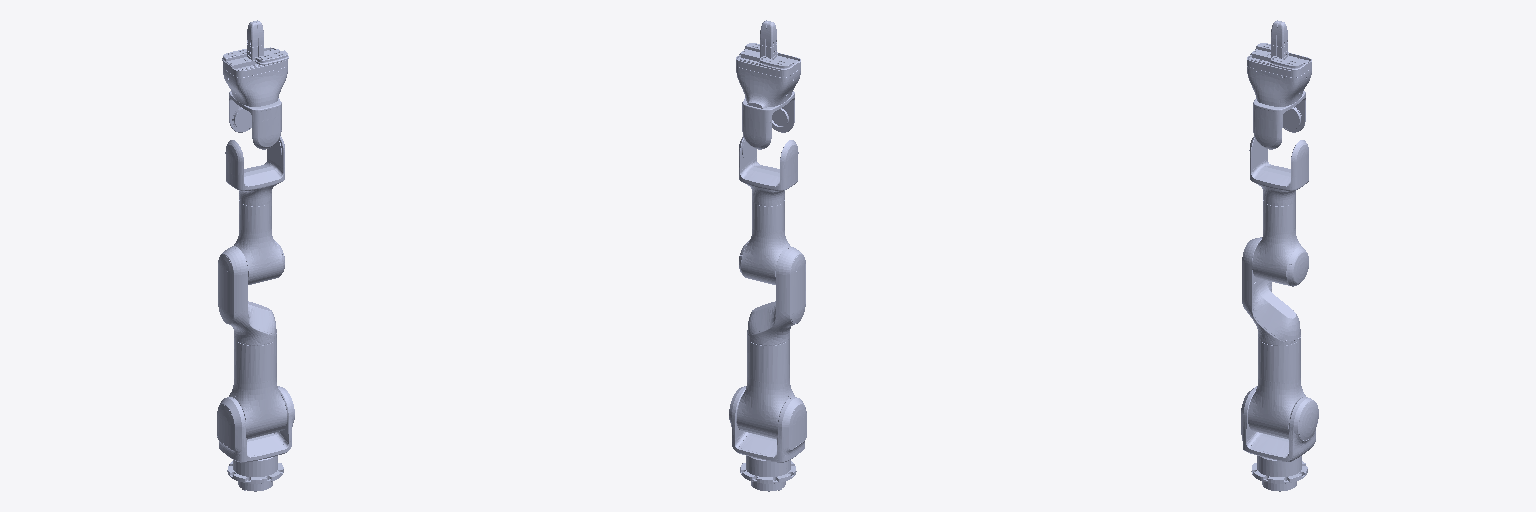
The robot description file, URDF, robot "ARM-RIGHT-GR-0":
<?xml version="1.0" encoding="utf-8"?>
<!-- This URDF was automatically created by SolidWorks to URDF Exporter! Originally created by Stephen Brawner (brawner@gmail.com) 
     Commit Version: 1.6.0-4-g7f85cfe  Build Version: 1.6.7995.38578
     For more information, please see http://wiki.ros.org/sw_urdf_exporter -->
<robot
  name="ARM-RIGHT-GR-0">
  <link
    name="right-link_arm_base">
    <inertial>
      <origin
        xyz="-2.956E-05 2.828E-07 0.021203"
        rpy="0 0 0" />
      <mass
        value="1.6812" />
      <inertia
        ixx="0.001511"
        ixy="-3.7785E-08"
        ixz="-2.2617E-06"
        iyy="0.0015126"
        iyz="-2.0148E-08"
        izz="0.0015409" />
    </inertial>
    <visual>
      <origin
        xyz="0 0 0"
        rpy="0 0 0" />
      <geometry>
        <mesh
          filename="package://ARM-RIGHT-GR-0/meshes/right-link_arm_base.STL" />
      </geometry>
      <material
        name="">
        <color
          rgba="0.79216 0.81961 0.93333 1" />
      </material>
    </visual>
    <collision>
      <origin
        xyz="0 0 0"
        rpy="0 0 0" />
      <geometry>
        <mesh
          filename="package://ARM-RIGHT-GR-0/meshes/right-link_arm_base.STL" />
      </geometry>
    </collision>
  </link>
  <link
    name="right-link_arm_1">
    <inertial>
      <origin
        xyz="-0.0011699 1.3169E-07 0.043882"
        rpy="0 0 0" />
      <mass
        value="0.53418" />
      <inertia
        ixx="0.00094394"
        ixy="5.09E-09"
        ixz="-6.9484E-05"
        iyy="0.0019256"
        iyz="4.5862E-09"
        izz="0.0016239" />
    </inertial>
    <visual>
      <origin
        xyz="0 0 0"
        rpy="0 0 0" />
      <geometry>
        <mesh
          filename="package://ARM-RIGHT-GR-0/meshes/right-link_arm_1.STL" />
      </geometry>
      <material
        name="">
        <color
          rgba="0.79216 0.81961 0.93333 1" />
      </material>
    </visual>
    <collision>
      <origin
        xyz="0 0 0"
        rpy="0 0 0" />
      <geometry>
        <mesh
          filename="package://ARM-RIGHT-GR-0/meshes/right-link_arm_1.STL" />
      </geometry>
    </collision>
  </link>
  <joint
    name="right-joint_arm_1"
    type="revolute">
    <origin
      xyz="0 0 0.048"
      rpy="0 0 0" />
    <parent
      link="right-link_arm_base" />
    <child
      link="right-link_arm_1" />
    <axis
      xyz="0 0 -1" />
    <limit
      lower="-3.14"
      upper="3.14"
      effort="100"
      velocity="1" />
  </joint>
  <link
    name="right-link_arm_2">
    <inertial>
      <origin
        xyz="2.761E-07 -0.055318 0.00024968"
        rpy="0 0 0" />
      <mass
        value="1.2991" />
      <inertia
        ixx="0.0052388"
        ixy="-4.4739E-09"
        ixz="2.5077E-10"
        iyy="0.001368"
        iyz="-1.1355E-08"
        izz="0.0051498" />
    </inertial>
    <visual>
      <origin
        xyz="0 0 0"
        rpy="0 0 0" />
      <geometry>
        <mesh
          filename="package://ARM-RIGHT-GR-0/meshes/right-link_arm_2.STL" />
      </geometry>
      <material
        name="">
        <color
          rgba="0.79216 0.81961 0.93333 1" />
      </material>
    </visual>
    <collision>
      <origin
        xyz="0 0 0"
        rpy="0 0 0" />
      <geometry>
        <mesh
          filename="package://ARM-RIGHT-GR-0/meshes/right-link_arm_2.STL" />
      </geometry>
    </collision>
  </link>
  <joint
    name="right-joint_arm_2"
    type="revolute">
    <origin
      xyz="0 0 0.076999"
      rpy="-1.5708 0 1.5708" />
    <parent
      link="right-link_arm_1" />
    <child
      link="right-link_arm_2" />
    <axis
      xyz="0 0 -1" />
    <limit
      lower="-1.91"
      upper="1.91"
      effort="100"
      velocity="1" />
  </joint>
  <link
    name="right-link_arm_3">
    <inertial>
      <origin
        xyz="-0.028391 1.8481E-06 0.07263"
        rpy="0 0 0" />
      <mass
        value="0.65629" />
      <inertia
        ixx="0.0021459"
        ixy="9.3126E-09"
        ixz="0.00070546"
        iyy="0.0024303"
        iyz="-1.6816E-09"
        izz="0.000793" />
    </inertial>
    <visual>
      <origin
        xyz="0 0 0"
        rpy="0 0 0" />
      <geometry>
        <mesh
          filename="package://ARM-RIGHT-GR-0/meshes/right-link_arm_3.STL" />
      </geometry>
      <material
        name="">
        <color
          rgba="0.79216 0.81961 0.93333 1" />
      </material>
    </visual>
    <collision>
      <origin
        xyz="0 0 0"
        rpy="0 0 0" />
      <geometry>
        <mesh
          filename="package://ARM-RIGHT-GR-0/meshes/right-link_arm_3.STL" />
      </geometry>
    </collision>
  </link>
  <joint
    name="right-joint_arm_3"
    type="revolute">
    <origin
      xyz="0 -0.166 0.00025042"
      rpy="0.44871 1.5708 -1.1221" />
    <parent
      link="right-link_arm_2" />
    <child
      link="right-link_arm_3" />
    <axis
      xyz="0 0 -1" />
    <limit
      lower="-3.14"
      upper="3.14"
      effort="100"
      velocity="1" />
  </joint>
  <link
    name="right-link_arm_4">
    <inertial>
      <origin
        xyz="6.7357E-08 -0.035384 -0.0029086"
        rpy="0 0 0" />
      <mass
        value="0.77877" />
      <inertia
        ixx="0.0021294"
        ixy="2.3749E-08"
        ixz="-1.1228E-08"
        iyy="0.00065445"
        iyz="7.9354E-05"
        izz="0.0020291" />
    </inertial>
    <visual>
      <origin
        xyz="0 0 0"
        rpy="0 0 0" />
      <geometry>
        <mesh
          filename="package://ARM-RIGHT-GR-0/meshes/right-link_arm_4.STL" />
      </geometry>
      <material
        name="">
        <color
          rgba="0.79216 0.81961 0.93333 1" />
      </material>
    </visual>
    <collision>
      <origin
        xyz="0 0 0"
        rpy="0 0 0" />
      <geometry>
        <mesh
          filename="package://ARM-RIGHT-GR-0/meshes/right-link_arm_4.STL" />
      </geometry>
    </collision>
  </link>
  <joint
    name="right-joint_arm_4"
    type="revolute">
    <origin
      xyz="0 0 0.1615"
      rpy="-1.5709 0 1.5708" />
    <parent
      link="right-link_arm_3" />
    <child
      link="right-link_arm_4" />
    <axis
      xyz="0 0 -1" />
    <limit
      lower="-2.61"
      upper="2.61"
      effort="100"
      velocity="1" />
  </joint>
  <link
    name="right-link_arm_5">
    <inertial>
      <origin
        xyz="0.0003459 2.975E-06 0.048731"
        rpy="0 0 0" />
      <mass
        value="0.37078" />
      <inertia
        ixx="0.00046921"
        ixy="8.0617E-09"
        ixz="-7.0508E-06"
        iyy="0.00074252"
        iyz="-9.2131E-09"
        izz="0.00050205" />
    </inertial>
    <visual>
      <origin
        xyz="0 0 0"
        rpy="0 0 0" />
      <geometry>
        <mesh
          filename="package://ARM-RIGHT-GR-0/meshes/right-link_arm_5.STL" />
      </geometry>
      <material
        name="">
        <color
          rgba="0.79216 0.81961 0.93333 1" />
      </material>
    </visual>
    <collision>
      <origin
        xyz="0 0 0"
        rpy="0 0 0" />
      <geometry>
        <mesh
          filename="package://ARM-RIGHT-GR-0/meshes/right-link_arm_5.STL" />
      </geometry>
    </collision>
  </link>
  <joint
    name="right-joint_arm_5"
    type="revolute">
    <origin
      xyz="0 -0.135 1.0218E-05"
      rpy="-1.5708 1.5708 -3.1416" />
    <parent
      link="right-link_arm_4" />
    <child
      link="right-link_arm_5" />
    <axis
      xyz="0 0 -1" />
    <limit
      lower="-3.14"
      upper="3.14"
      effort="100"
      velocity="1" />
  </joint>
  <link
    name="right-link_arm_6">
    <inertial>
      <origin
        xyz="-1.6259E-06 -0.028 1.0438E-05"
        rpy="0 0 0" />
      <mass
        value="0.59195" />
      <inertia
        ixx="0.00088918"
        ixy="-2.8999E-08"
        ixz="7.3671E-10"
        iyy="0.00053422"
        iyz="-1.5169E-08"
        izz="0.00088918" />
    </inertial>
    <visual>
      <origin
        xyz="0 0 0"
        rpy="0 0 0" />
      <geometry>
        <mesh
          filename="package://ARM-RIGHT-GR-0/meshes/right-link_arm_6.STL" />
      </geometry>
      <material
        name="">
        <color
          rgba="0.79216 0.81961 0.93333 1" />
      </material>
    </visual>
    <collision>
      <origin
        xyz="0 0 0"
        rpy="0 0 0" />
      <geometry>
        <mesh
          filename="package://ARM-RIGHT-GR-0/meshes/right-link_arm_6.STL" />
      </geometry>
    </collision>
  </link>
  <joint
    name="right-joint_arm_6"
    type="revolute">
    <origin
      xyz="0 0 0.105"
      rpy="-1.5708 0 1.5708" />
    <parent
      link="right-link_arm_5" />
    <child
      link="right-link_arm_6" />
    <axis
      xyz="0 0 -1" />
    <limit
      lower="-1.51"
      upper="1.51"
      effort="100"
      velocity="1" />
  </joint>
  <link
    name="right-link_arm_7">
    <inertial>
      <origin
        xyz="-2.3746E-05 -0.026806 -0.003448"
        rpy="0 0 0" />
      <mass
        value="0.16706" />
      <inertia
        ixx="0.00043484"
        ixy="-6.2144E-08"
        ixz="1.1597E-08"
        iyy="0.00037043"
        iyz="1.4512E-05"
        izz="0.00016897" />
    </inertial>
    <visual>
      <origin
        xyz="0 0 0"
        rpy="0 0 0" />
      <geometry>
        <mesh
          filename="package://ARM-RIGHT-GR-0/meshes/right-link_arm_7.STL" />
      </geometry>
      <material
        name="">
        <color
          rgba="0.79216 0.81961 0.93333 1" />
      </material>
    </visual>
    <collision>
      <origin
        xyz="0 0 0"
        rpy="0 0 0" />
      <geometry>
        <mesh
          filename="package://ARM-RIGHT-GR-0/meshes/right-link_arm_7.STL" />
      </geometry>
    </collision>
  </link>
  <joint
    name="right-joint_arm_7"
    type="revolute">
    <origin
      xyz="0 -0.056001 0"
      rpy="-1.5708 -1.57 1.5708" />
    <parent
      link="right-link_arm_6" />
    <child
      link="right-link_arm_7" />
    <axis
      xyz="0 0 -1" />
    <limit
      lower="-1.51"
      upper="1.51"
      effort="100"
      velocity="1" />
  </joint>
  <link
    name="right-link_gripper_base">
    <inertial>
      <origin
        xyz="2.0078E-06 0.00034834 0.045721"
        rpy="0 0 0" />
      <mass
        value="0.57392" />
      <inertia
        ixx="0.00053521"
        ixy="1.0881E-07"
        ixz="-7.8901E-08"
        iyy="0.00080086"
        iyz="7.8658E-06"
        izz="0.00081476" />
    </inertial>
    <visual>
      <origin
        xyz="0 0 0"
        rpy="0 0 0" />
      <geometry>
        <mesh
          filename="package://ARM-RIGHT-GR-0/meshes/right-link_gripper_base.STL" />
      </geometry>
      <material
        name="">
        <color
          rgba="0.79216 0.81961 0.93333 1" />
      </material>
    </visual>
    <collision>
      <origin
        xyz="0 0 0"
        rpy="0 0 0" />
      <geometry>
        <mesh
          filename="package://ARM-RIGHT-GR-0/meshes/right-link_gripper_base.STL" />
      </geometry>
    </collision>
  </link>
  <joint
    name="right-joint_gripper_base"
    type="fixed">
    <origin
      xyz="-4.7997E-05 -0.060999 4.2986E-05"
      rpy="-1.5708 -1.0746E-05 3.1408" />
    <parent
      link="right-link_arm_7" />
    <child
      link="right-link_gripper_base" />
    <axis
      xyz="0 0 0" />
  </joint>
  <link
    name="right-link_gripper_finger_1">
    <inertial>
      <origin
        xyz="0.019238 -0.010439 0.0063859"
        rpy="0 0 0" />
      <mass
        value="0.030889" />
      <inertia
        ixx="1.9624E-05"
        ixy="5.0781E-06"
        ixz="7.6992E-06"
        iyy="2.6979E-05"
        iyz="-5.9317E-06"
        izz="1.7644E-05" />
    </inertial>
    <visual>
      <origin
        xyz="0 0 0"
        rpy="0 0 0" />
      <geometry>
        <mesh
          filename="package://ARM-RIGHT-GR-0/meshes/right-link_gripper_finger_1.STL" />
      </geometry>
      <material
        name="">
        <color
          rgba="0.79216 0.81961 0.93333 1" />
      </material>
    </visual>
    <collision>
      <origin
        xyz="0 0 0"
        rpy="0 0 0" />
      <geometry>
        <mesh
          filename="package://ARM-RIGHT-GR-0/meshes/right-link_gripper_finger_1.STL" />
      </geometry>
    </collision>
  </link>
  <joint
    name="right-joint_gripper_finger_1"
    type="prismatic">
    <origin
      xyz="-0.0041913 0.02188 0.0812"
      rpy="-1.3975 -1.5708 1.3971" />
    <parent
      link="right-link_gripper_base" />
    <child
      link="right-link_gripper_finger_1" />
    <axis
      xyz="0 0 -1" />
    <limit
      lower="0"
      upper="0.05"
      effort="100"
      velocity="1" />
  </joint>
  <link
    name="right-link_gripper_finger_2">
    <inertial>
      <origin
        xyz="0.019238 -0.010439 0.0063859"
        rpy="0 0 0" />
      <mass
        value="0.030889" />
      <inertia
        ixx="1.9624E-05"
        ixy="5.0781E-06"
        ixz="7.6992E-06"
        iyy="2.6979E-05"
        iyz="-5.9317E-06"
        izz="1.7644E-05" />
    </inertial>
    <visual>
      <origin
        xyz="0 0 0"
        rpy="0 0 0" />
      <geometry>
        <mesh
          filename="package://ARM-RIGHT-GR-0/meshes/right-link_gripper_finger_2.STL" />
      </geometry>
      <material
        name="">
        <color
          rgba="0.79216 0.81961 0.93333 1" />
      </material>
    </visual>
    <collision>
      <origin
        xyz="0 0 0"
        rpy="0 0 0" />
      <geometry>
        <mesh
          filename="package://ARM-RIGHT-GR-0/meshes/right-link_gripper_finger_2.STL" />
      </geometry>
    </collision>
  </link>
  <joint
    name="right-joint_gripper_finger_2"
    type="prismatic">
    <origin
      xyz="0.0041913 -0.02188 0.0812"
      rpy="2.405 -1.5708 0.73616" />
    <parent
      link="right-link_gripper_base" />
    <child
      link="right-link_gripper_finger_2" />
    <axis
      xyz="0 0 -1" />
    <limit
      lower="0"
      upper="0.05"
      effort="100"
      velocity="1" />
  </joint>
  <link
    name="right-link_ee_ft_sensor">
    <inertial>
      <origin
        xyz="-0.000108 -0.00012646 0.0058754"
        rpy="0 0 0" />
      <mass
        value="0.062708" />
      <inertia
        ixx="1.8346E-05"
        ixy="2.8333E-08"
        ixz="1.1584E-08"
        iyy="1.8467E-05"
        iyz="5.858E-08"
        izz="3.507E-05" />
    </inertial>
    <visual>
      <origin
        xyz="0 0 0"
        rpy="0 0 0" />
      <geometry>
        <mesh
          filename="package://ARM-RIGHT-GR-0/meshes/right-link_ee_ft_sensor.STL" />
      </geometry>
      <material
        name="">
        <color
          rgba="0.86667 0.9098 1 1" />
      </material>
    </visual>
    <collision>
      <origin
        xyz="0 0 0"
        rpy="0 0 0" />
      <geometry>
        <mesh
          filename="package://ARM-RIGHT-GR-0/meshes/right-link_ee_ft_sensor.STL" />
      </geometry>
    </collision>
  </link>
  <joint
    name="right-joint_ee_ft_sensor"
    type="fixed">
    <origin
      xyz="-4.7997E-05 -0.060999 4.2986E-05"
      rpy="-1.5708 -1.0746E-05 3.1408" />
    <parent
      link="right-link_arm_7" />
    <child
      link="right-link_ee_ft_sensor" />
    <axis
      xyz="0 0 0" />
  </joint>
</robot>

--- What the picture shows (computed from the rendered views, not written in the file) ---
3 views of the same robot in one strip: view 1: azimuth 30°, elevation 25°; view 2: azimuth 150°, elevation 25°; view 3: azimuth 330°, elevation 25° (orthographic).
Robot: ARM-RIGHT-GR-0 — 12 links, 11 joints (7 revolute, 2 prismatic, 2 fixed); root link right-link_arm_base; default pose: every joint at zero.
Visible links, largest first — view 1: right-link_arm_2, right-link_arm_3, right-link_arm_1, right-link_arm_4, right-link_arm_5, right-link_gripper_base, right-link_arm_7, right-link_arm_base, right-link_gripper_finger_2; view 2: right-link_arm_2, right-link_arm_3, right-link_arm_1, right-link_arm_4, right-link_gripper_base, right-link_arm_5, right-link_arm_7, right-link_arm_base; view 3: right-link_arm_2, right-link_arm_4, right-link_arm_3, right-link_arm_1, right-link_arm_5, right-link_gripper_base, right-link_arm_7, right-link_arm_base.
Link boxes in pixels (x1,y1,x2,y2): right-link_arm_2: [229, 338, 286, 439]; right-link_arm_3: [218, 246, 276, 345]; right-link_arm_1: [217, 386, 294, 462]; right-link_arm_4: [234, 200, 284, 284]; right-link_arm_5: [225, 136, 284, 206]; right-link_gripper_base: [223, 47, 287, 106]; right-link_arm_7: [229, 91, 281, 149]; right-link_arm_base: [227, 456, 283, 491]; right-link_gripper_finger_2: [247, 21, 288, 65]; right-link_arm_2: [737, 338, 794, 439]; right-link_arm_3: [747, 246, 805, 345]; right-link_arm_1: [729, 386, 806, 462]; right-link_arm_4: [739, 200, 789, 284]; right-link_gripper_base: [736, 49, 800, 108]; right-link_arm_5: [739, 136, 798, 206]; right-link_arm_7: [742, 91, 794, 149]; right-link_arm_base: [740, 456, 796, 491]; right-link_arm_2: [1248, 337, 1305, 439]; right-link_arm_4: [1252, 200, 1308, 286]; right-link_arm_3: [1242, 237, 1300, 345]; right-link_arm_1: [1241, 386, 1318, 461]; right-link_arm_5: [1249, 137, 1308, 206]; right-link_gripper_base: [1247, 49, 1311, 106]; right-link_arm_7: [1253, 91, 1305, 149]; right-link_arm_base: [1251, 456, 1307, 491].
Bounding box of the posed robot: 0.1419 × 0.1116 × 1 m (x, y, z).
10 mesh visuals loaded from 12 distinct referenced files (10 binary STL); not drawn: 2 (reference not matched to a file when rendering).
